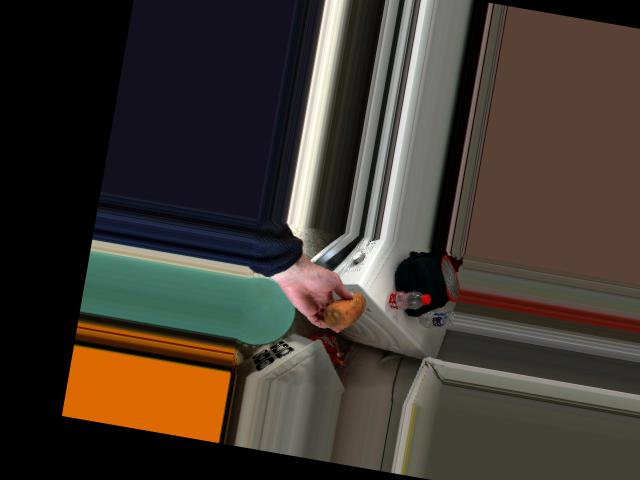sweet_potato: (316, 283, 367, 329)
